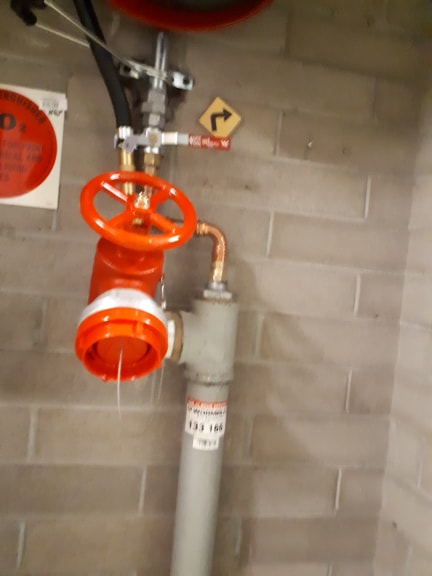right: (198, 96, 233, 141), (209, 108, 243, 123), (220, 104, 241, 120)
